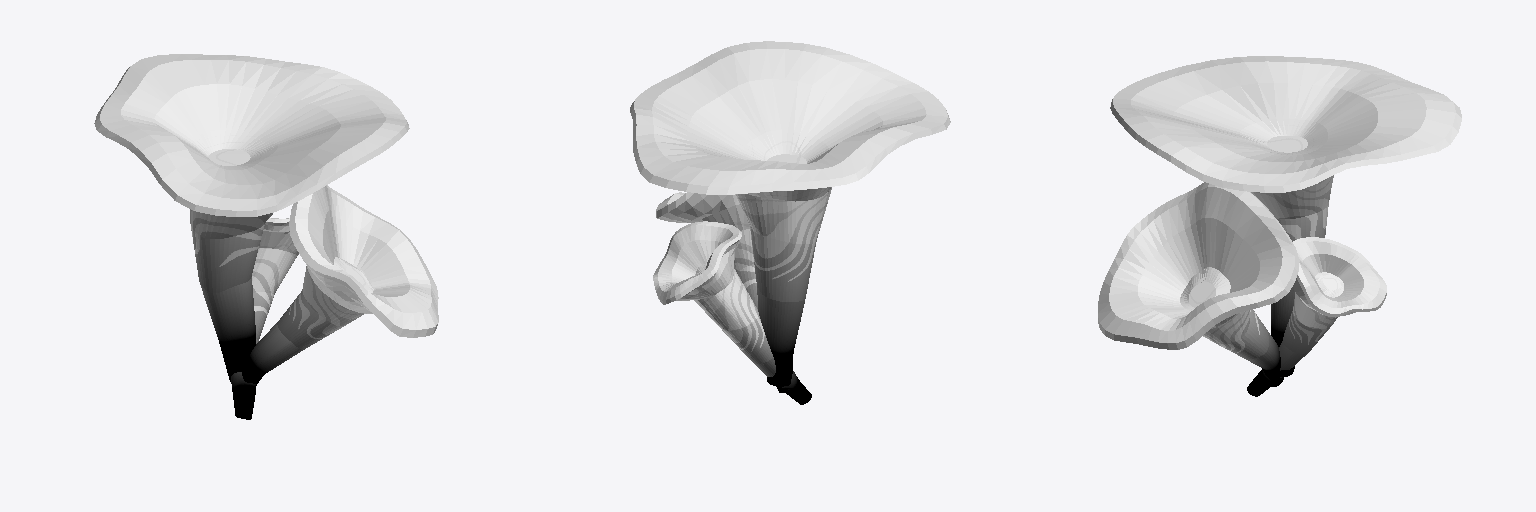
3 renders of one model, left to right at view 1: azimuth 30°, elevation 25°; view 2: azimuth 150°, elevation 25°; view 3: azimuth 270°, elevation 25°, orthographic.
Parts seen in each view (by area): view 1: Mushroom_C_Mushroom.001; view 2: Mushroom_C_Mushroom.001; view 3: Mushroom_C_Mushroom.001.
Boxes of the visible parts, x1=… form: Mushroom_C_Mushroom.001: x1=94, y1=54, x2=438, y2=419; Mushroom_C_Mushroom.001: x1=630, y1=41, x2=950, y2=404; Mushroom_C_Mushroom.001: x1=1098, y1=56, x2=1461, y2=396.
Size of the model in its own units: 0.3142 by 0.3471 by 0.3812.
1 materials, 1 textured.